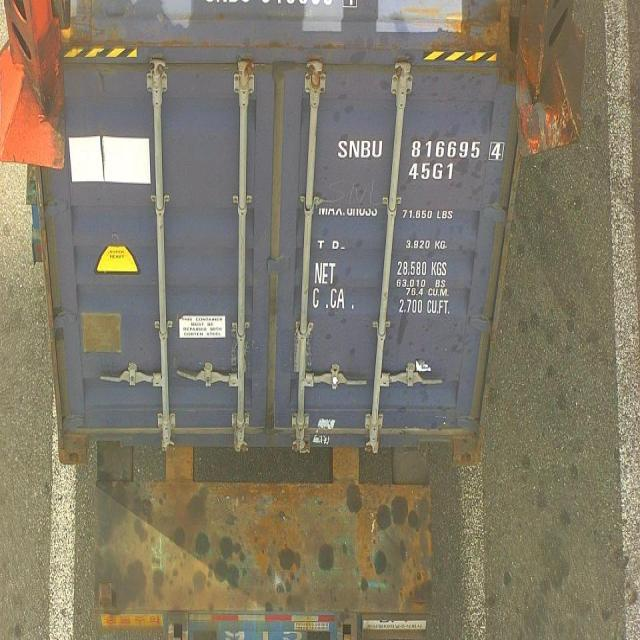ISO: (406, 164, 454, 182)
container_number: (335, 141, 505, 158)
